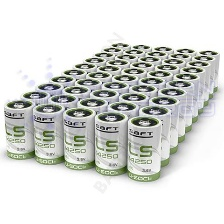battery: (125, 113, 163, 184), (1, 97, 41, 162), (92, 110, 129, 178), (31, 101, 69, 166), (60, 106, 97, 172), (134, 103, 172, 167), (104, 98, 142, 160), (146, 94, 180, 157), (75, 95, 110, 156), (116, 90, 150, 151), (60, 82, 93, 142), (86, 87, 121, 143), (45, 92, 80, 146), (155, 85, 187, 144), (18, 88, 52, 143), (34, 80, 66, 138), (45, 73, 77, 125), (165, 78, 194, 134), (171, 70, 199, 125), (128, 82, 160, 130), (176, 65, 205, 117), (153, 61, 182, 112), (171, 45, 199, 96), (119, 65, 149, 112), (111, 71, 142, 116), (144, 68, 174, 114), (100, 78, 131, 122), (136, 75, 166, 120), (187, 54, 215, 101), (73, 76, 102, 121), (192, 48, 220, 94), (60, 66, 88, 112), (184, 60, 210, 109), (71, 61, 98, 107), (82, 70, 113, 110), (159, 56, 186, 100), (166, 51, 192, 96), (104, 56, 133, 96), (128, 58, 157, 95), (95, 62, 124, 98), (109, 40, 133, 82), (121, 45, 146, 83), (151, 42, 174, 83), (144, 47, 168, 85), (129, 42, 152, 80), (91, 49, 115, 85), (81, 56, 107, 88), (113, 53, 139, 83)
